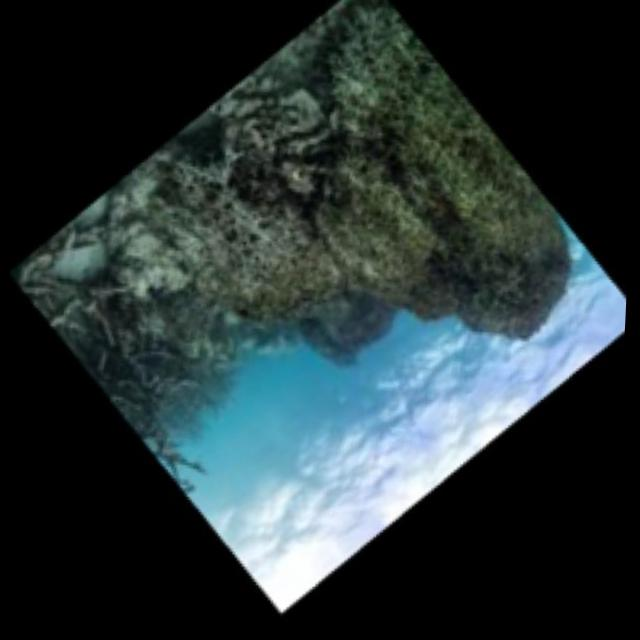Dead Coral: (18, 233, 306, 508)
